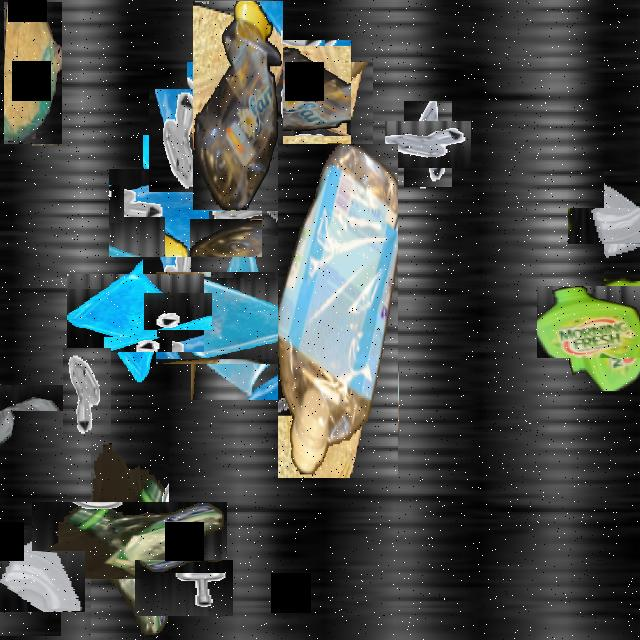glass: (173, 254, 301, 382), (126, 152, 248, 275), (81, 259, 189, 367), (0, 538, 73, 624), (0, 349, 62, 446), (585, 189, 640, 262)
metal: (145, 550, 223, 627), (149, 89, 207, 192), (394, 111, 462, 177), (63, 348, 111, 434), (262, 185, 306, 263), (152, 285, 204, 337)
plastic: (278, 144, 398, 478), (193, 2, 283, 212), (62, 472, 198, 609), (552, 270, 640, 373)
wood: (198, 52, 362, 215), (4, 2, 62, 144)
